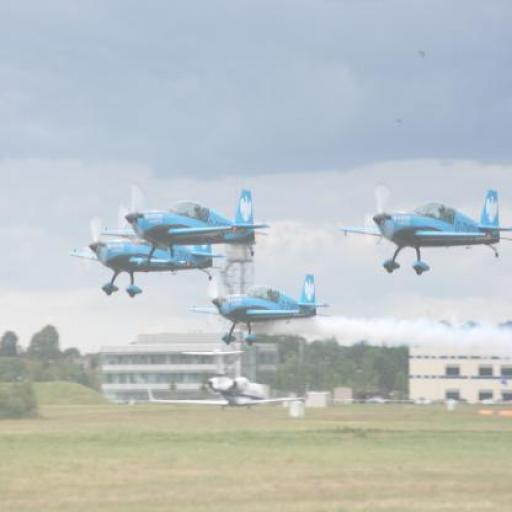aircraft: (337, 174, 512, 280), (66, 208, 216, 299), (114, 176, 272, 262), (186, 268, 330, 350)
